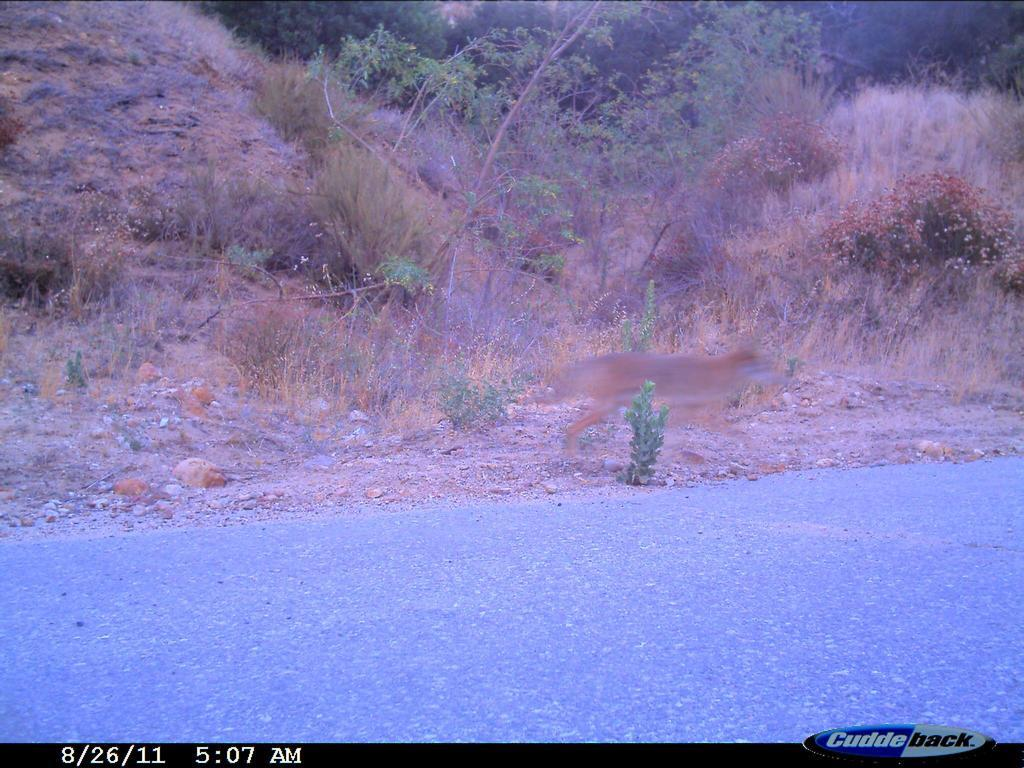coyote: (538, 329, 795, 459)
